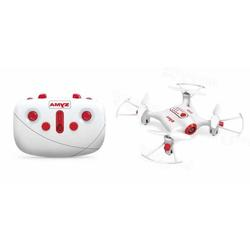drone: (116, 82, 245, 165)
